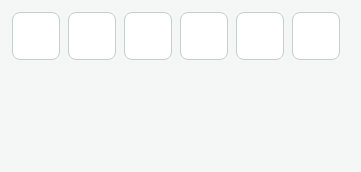
OTPInput › fills every box from a paste
Click the field named "Digit 1 of 6" at (36, 36), box [12,12,60,60]
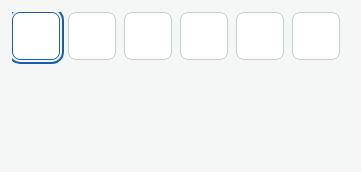
Type keys "98-76 54"
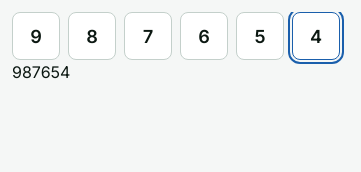
Expected: the text with test id "value" reads "987654", [12,62,70,82]
